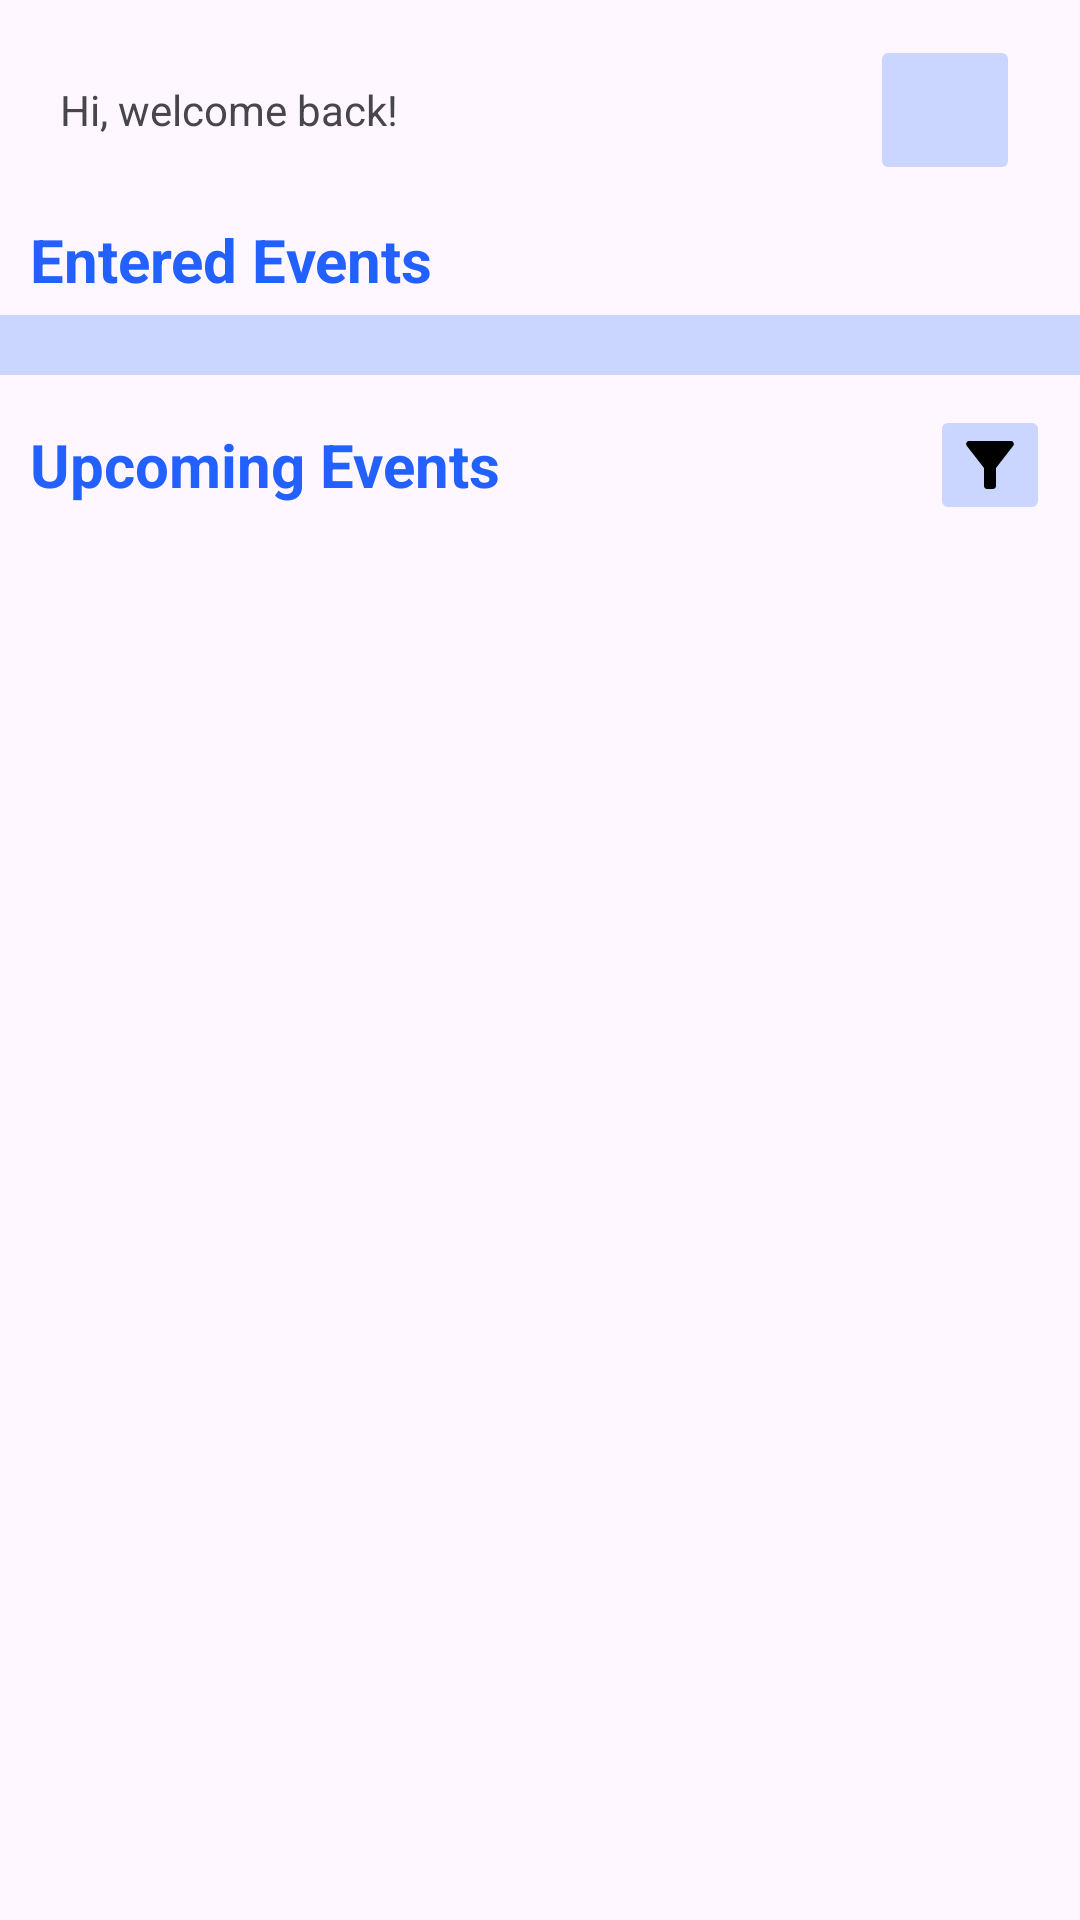

Icons on this 1080 x 1920 Android screen, each with its box as (x1, y1, x2, y2):
Filter events: (942, 423, 1038, 507)
